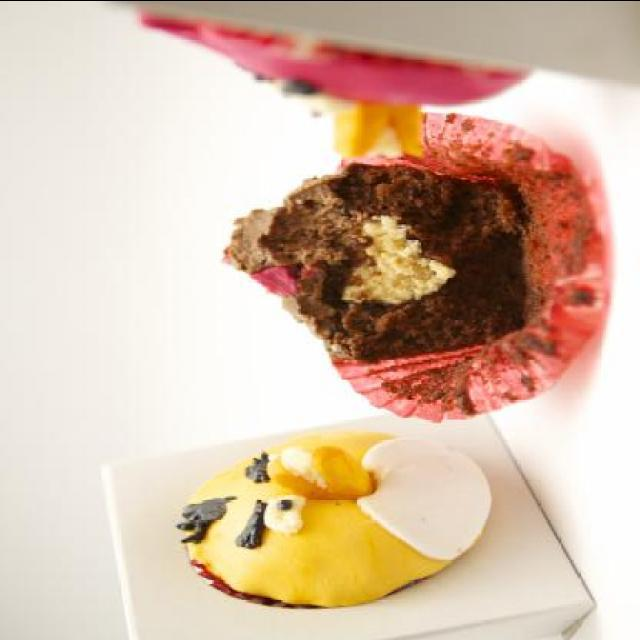Muffin: (220, 105, 608, 422), (134, 3, 530, 165), (174, 427, 496, 616)
